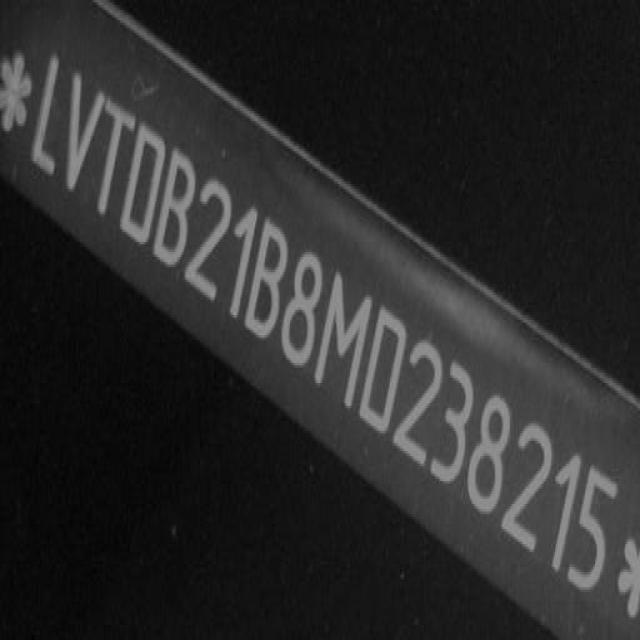1: (212, 193, 272, 334), (538, 448, 592, 593)
2: (386, 324, 455, 484), (499, 411, 566, 562), (182, 165, 248, 317)
3: (424, 345, 488, 503)
5: (560, 460, 629, 606)
8: (272, 234, 342, 380), (456, 382, 526, 526)
B: (234, 203, 302, 353), (148, 136, 208, 281)
D: (352, 290, 423, 451), (109, 112, 174, 260)
L: (23, 47, 80, 189)
M: (307, 260, 382, 415)
T: (84, 91, 148, 244)
V: (55, 61, 121, 216)
